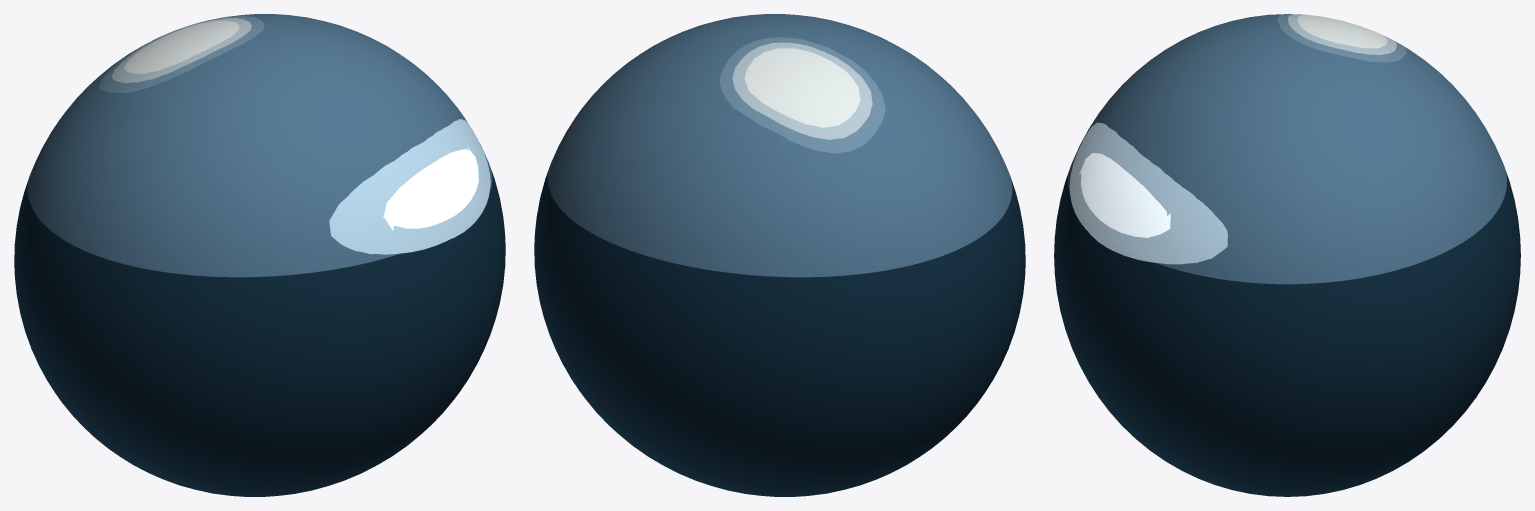
File: ball.glb
3 renders of one model, left to right at view 1: azimuth 30°, elevation 25°; view 2: azimuth 150°, elevation 25°; view 3: azimuth 270°, elevation 25°, orthographic.
Visible parts, largest first — view 1: ball; view 2: ball; view 3: ball.
Part boxes in pixels (x1,y1,x2,y2): ball: (14, 14, 505, 496); ball: (534, 14, 1025, 496); ball: (1054, 14, 1520, 496).
Bounding box in the file's own units: 18 × 17.5 × 17.
